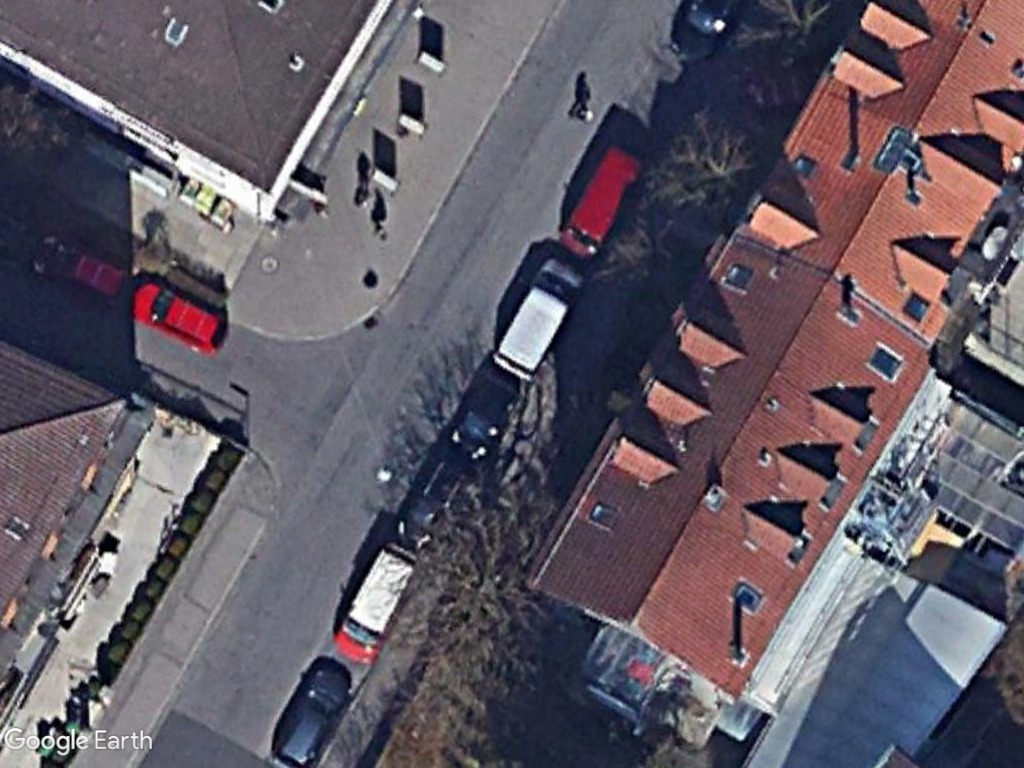car: (265, 661, 360, 764), (128, 278, 233, 360)
van: (330, 532, 431, 667), (553, 139, 654, 265), (491, 253, 595, 373)
